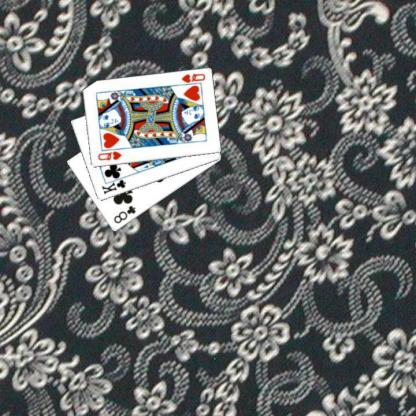8C: (111, 203, 137, 225)
KC: (99, 173, 127, 196)
QH: (176, 71, 206, 87), (95, 149, 122, 162)
